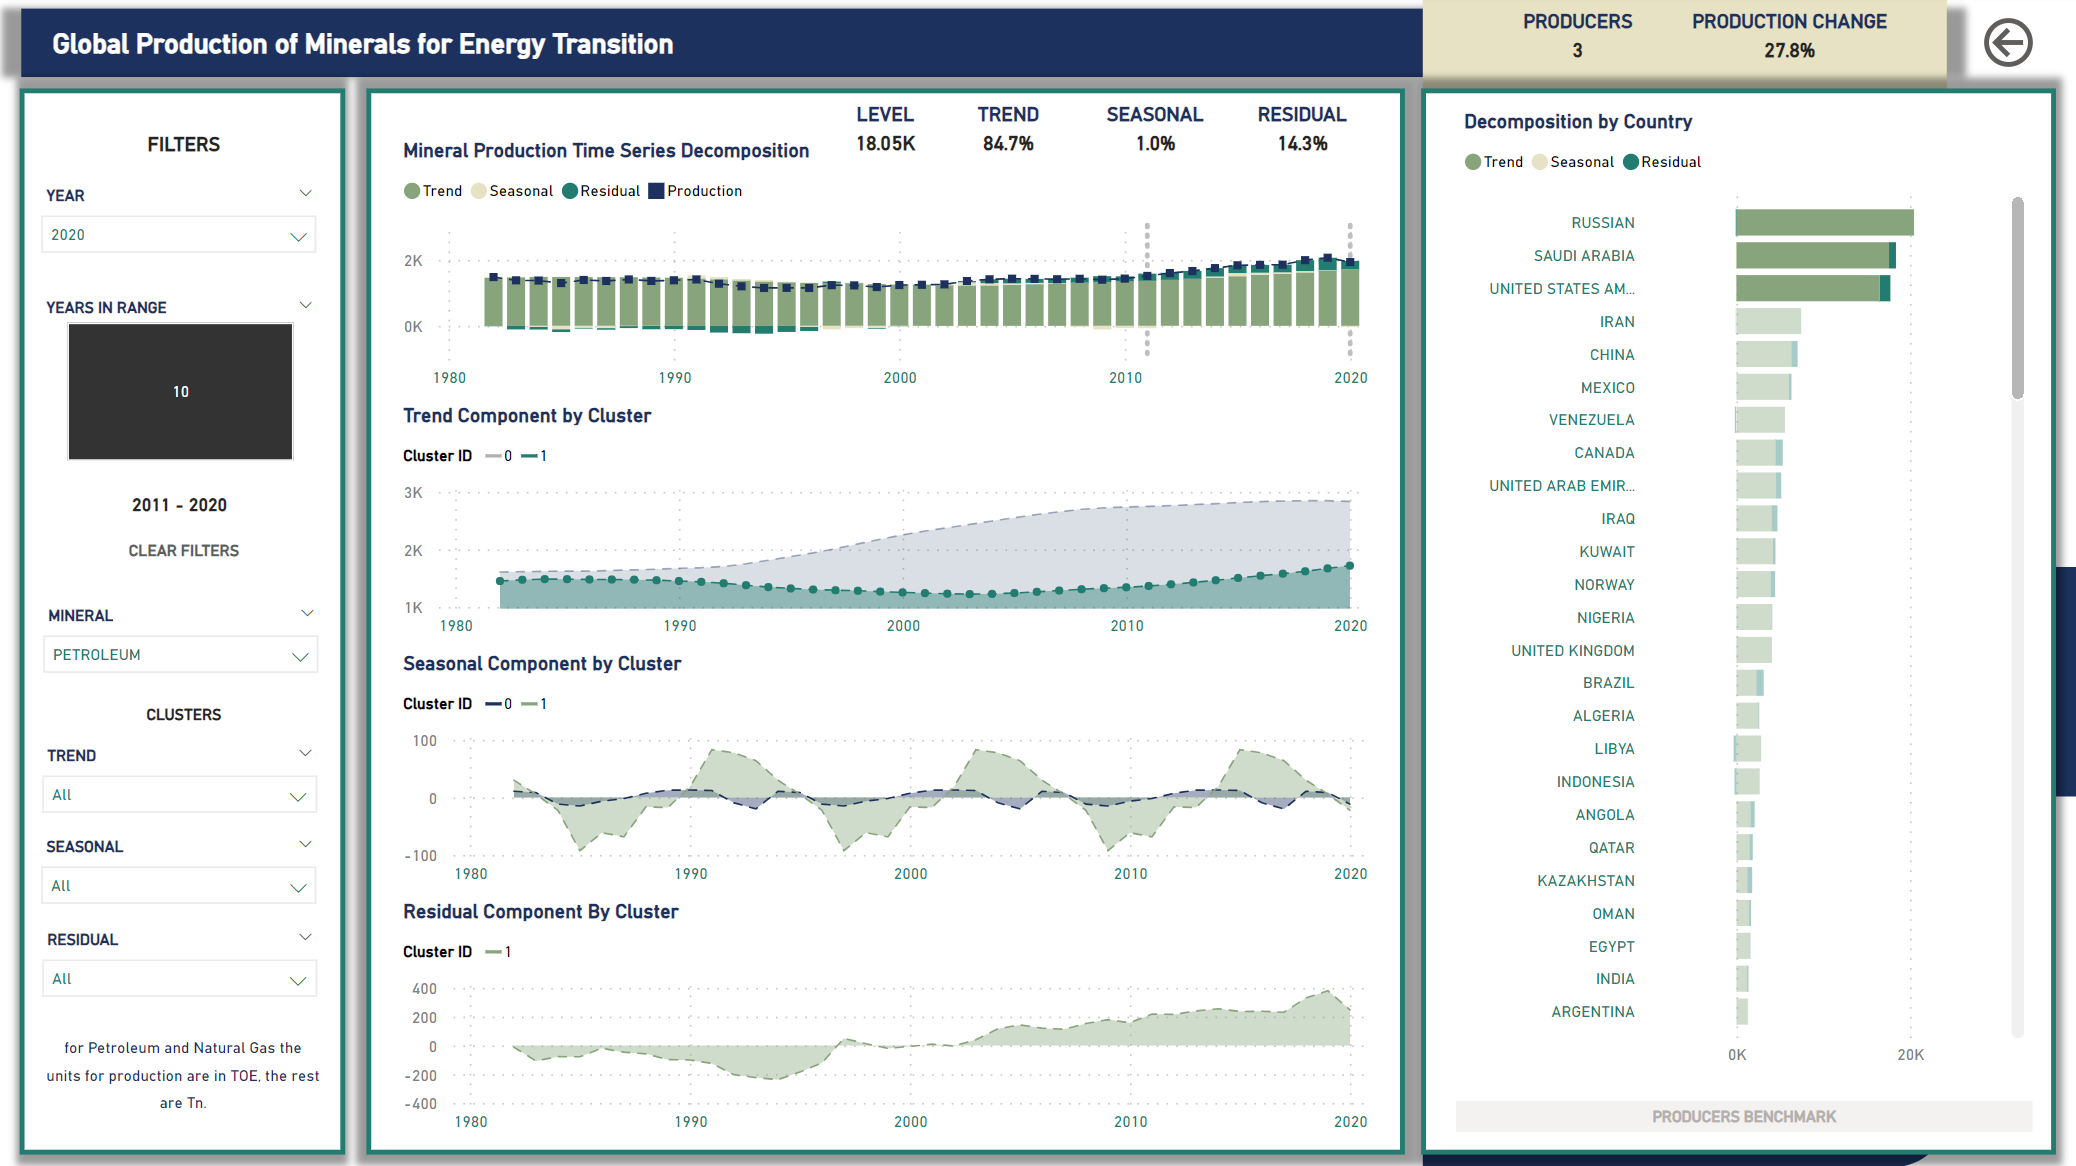

What the dashboard file says about the page in this screenshot:
{"tool":"powerbi","page":{"name":"02.Production","canvas":[1280,720],"ordinal":5},"visuals":[{"type":"card","title":"TREND","fields":{"Values":["_measures.tsd_trend_contrib"]},"box":[577.5,65.8,90.2,39.9],"z":0},{"type":"card","title":"SEASONAL","fields":{"Values":["_measures.tsd_seasonal_contrib"]},"box":[667.7,65.8,90.2,39.9],"z":1000},{"type":"card","title":"RESIDUAL","fields":{"Values":["_measures.tsd_resid_cointrib"]},"box":[757.9,65.8,90.2,39.9],"z":2000},{"type":"slicer","fields":{"Values":["dim_mineral.mineral_desc"]},"box":[19.5,370,189.4,55.9],"z":3000},{"type":"areaChart","title":"Trend Component by Cluster","fields":{"Category":["dim_calendar.year"],"Y":["_measures.produced_by_country_trend"],"Series":["ft_cluster_countries.cluster_by_trend_dtw"]},"box":[245.5,250.7,602.7,149.4],"z":4000},{"type":"areaChart","title":"Seasonal Component by Cluster","fields":{"Category":["dim_calendar.year"],"Y":["_measures.produced_by_country_seasonal"],"Series":["ft_cluster_countries.cluster_by_seasonal_dtw"]},"box":[245.5,403,602.7,149.4],"z":5000},{"type":"areaChart","title":"Residual Component By Cluster","fields":{"Category":["dim_calendar.year"],"Y":["_measures.produced_by_country_residual"],"Series":["ft_cluster_countries.cluster_by_residual_dtw"]},"box":[245.5,555.3,602.7,149.4],"z":6000},{"type":"slicer","fields":{"Values":["ft_cluster_countries.cluster_by_trend_dtw"]},"box":[19.2,455.8,188.6,56.2],"z":7000},{"type":"slicer","fields":{"Values":["ft_cluster_countries.cluster_by_seasonal_dtw"]},"box":[18.5,512,189.3,56.9],"z":8000},{"type":"slicer","fields":{"Values":["ft_cluster_countries.cluster_by_residual_dtw"]},"box":[19.2,568.9,188.6,56.2],"z":9000},{"type":"slicer","fields":{"Values":["tparam_yearsWindow.years"]},"box":[18.5,180.5,189.4,112.5],"z":10000},{"type":"card","title":"TREND","fields":{"Values":["_measures.aux_txt_cont_years"]},"box":[19.2,300.4,188.7,25.9],"z":11000},{"type":"slicer","fields":{"Values":["slicer_year_param.Value"]},"box":[18.5,111.7,189.4,56.2],"z":12000},{"type":"actionButton","box":[1217.1,8.9,44.4,39.9],"z":13000},{"type":"lineStackedColumnComboChart","title":"Mineral Production Time Series Decomposition","fields":{"Category":["dim_calendar.year"],"Y2":["_measures.produced_by_country_level"],"Y":["_measures.produced_by_country_trend","_measures.produced_by_country_seasonal","_measures.produced_by_country_residual"]},"box":[245.5,88,602.7,159.7],"z":14000},{"type":"textbox","box":[23.7,425.9,184.1,29.6],"z":15000},{"type":"textbox","box":[23.7,76.2,184.1,29.6],"z":16000},{"type":"actionButton","box":[27,328.3,177.9,21.6],"z":17000},{"type":"card","title":"PRODUCERS","fields":{"Values":["_measures.q_producer_countries_in_range"]},"box":[907.3,8.8,130.1,39.8],"z":18000},{"type":"card","title":"PRODUCTION CHANGE","fields":{"Values":["_measures.prod_change_in_range"]},"box":[1037.3,8.8,130.1,39.8],"z":19000},{"type":"barChart","title":"Decomposition by Country","fields":{"Category":["dim_country.country_desc"],"Y":["_measures.produced_by_country_trend","_measures.produced_by_country_seasonal","_measures.produced_by_country_residual"]},"box":[897.7,70.2,354.2,593.8],"z":20000},{"type":"textbox","box":[19.3,14.1,414.3,62.5],"z":21000},{"type":"actionButton","box":[897.7,678.8,354.2,19.2],"z":22000},{"type":"textbox","box":[26.6,630,178.2,68],"z":23000},{"type":"card","title":"LEVEL","fields":{"Values":["_measures.param_produc_prod"]},"box":[502.1,65.8,90.2,39.9],"z":24000}]}

Visuals, with their boxes in screenshot pixels (x1, y1, x2, y2), scaled from the page's 1280x720 canvas onto the 2076x1166 screenshot:
"TREND" card: 937/107/1083/171
"SEASONAL" card: 1083/107/1229/171
"RESIDUAL" card: 1229/107/1376/171
slicer - dim_mineral.mineral_desc: 32/599/339/690
"Trend Component by Cluster" areaChart: 398/406/1376/648
"Seasonal Component by Cluster" areaChart: 398/653/1376/895
"Residual Component By Cluster" areaChart: 398/899/1376/1141
slicer - ft_cluster_countries.cluster_by_trend_dtw: 31/738/337/829
slicer - ft_cluster_countries.cluster_by_seasonal_dtw: 30/829/337/921
slicer - ft_cluster_countries.cluster_by_residual_dtw: 31/921/337/1012
slicer - tparam_yearsWindow.years: 30/292/337/474
"TREND" card: 31/486/337/528
slicer - slicer_year_param.Value: 30/181/337/272
actionButton: 1974/14/2046/79
"Mineral Production Time Series Decomposition" lineStackedColumnComboChart: 398/143/1376/401
textbox: 38/690/337/738
textbox: 38/123/337/171
actionButton: 44/532/332/567
"PRODUCERS" card: 1472/14/1683/79
"PRODUCTION CHANGE" card: 1682/14/1893/79
"Decomposition by Country" barChart: 1456/114/2030/1075
textbox: 31/23/703/124
actionButton: 1456/1099/2030/1130
textbox: 43/1020/332/1130
"LEVEL" card: 814/107/961/171
